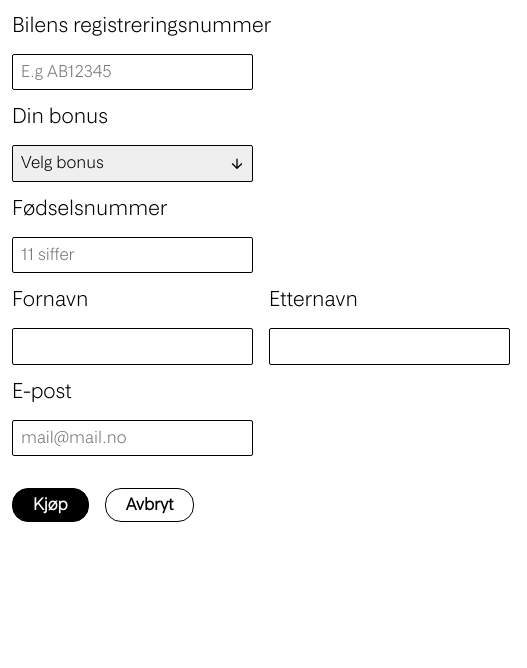
Scenario: BilforsikringSkjema › should show specific pattern validation error after clicking 'kjøp'
Type "wat" into the field labelled "Bilens registreringsnummer" at (132, 72), box [12,54,253,90]
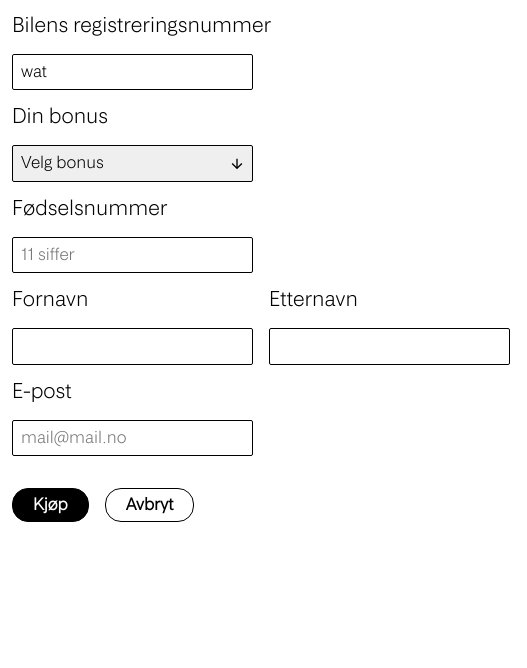
Click the button "Kjøp" at (50, 505), box [12,488,89,522]
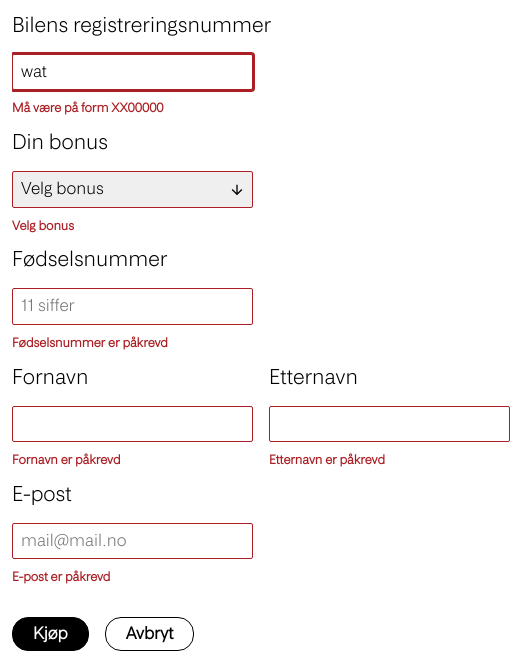
Now the text "Må være på form XX00000" is shown, box [12,100,164,117]
